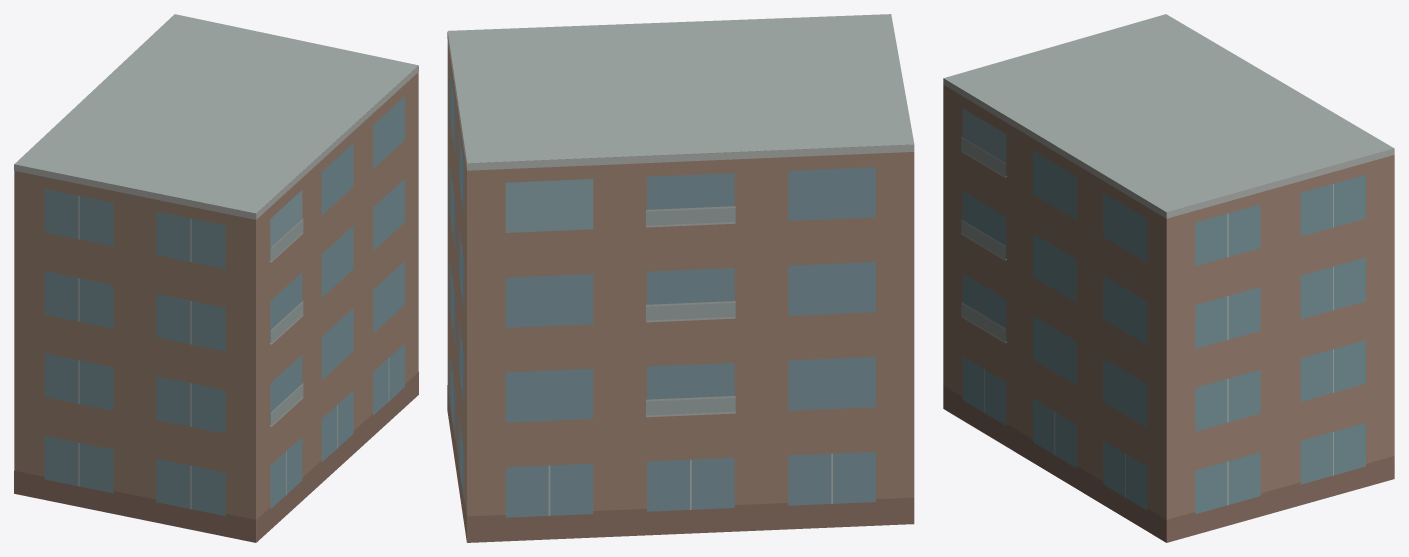
The model's file is survey-upis-32884928.glb.
3 renders of one model, left to right at view 1: azimuth 30°, elevation 25°; view 2: azimuth 150°, elevation 25°; view 3: azimuth 270°, elevation 25°, orthographic. The views are drawn at different scales.
Visible parts, largest first — view 1: survey-upis-32884928.tmp; view 2: survey-upis-32884928.tmp; view 3: survey-upis-32884928.tmp.
Part boxes in pixels (x1,y1,x2,y2): survey-upis-32884928.tmp: [14, 14, 418, 542]; survey-upis-32884928.tmp: [447, 14, 914, 542]; survey-upis-32884928.tmp: [943, 14, 1394, 542].
Bounding box in the file's own units: 16.09 × 12.5 × 15.47.
